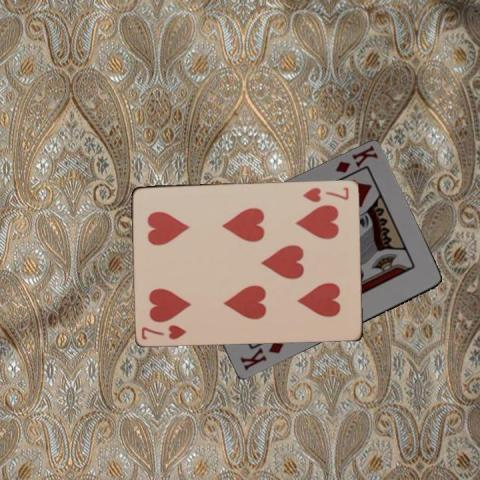7h: (139, 321, 188, 341), (300, 184, 351, 203)
Kd: (331, 142, 379, 184), (237, 338, 285, 372)
